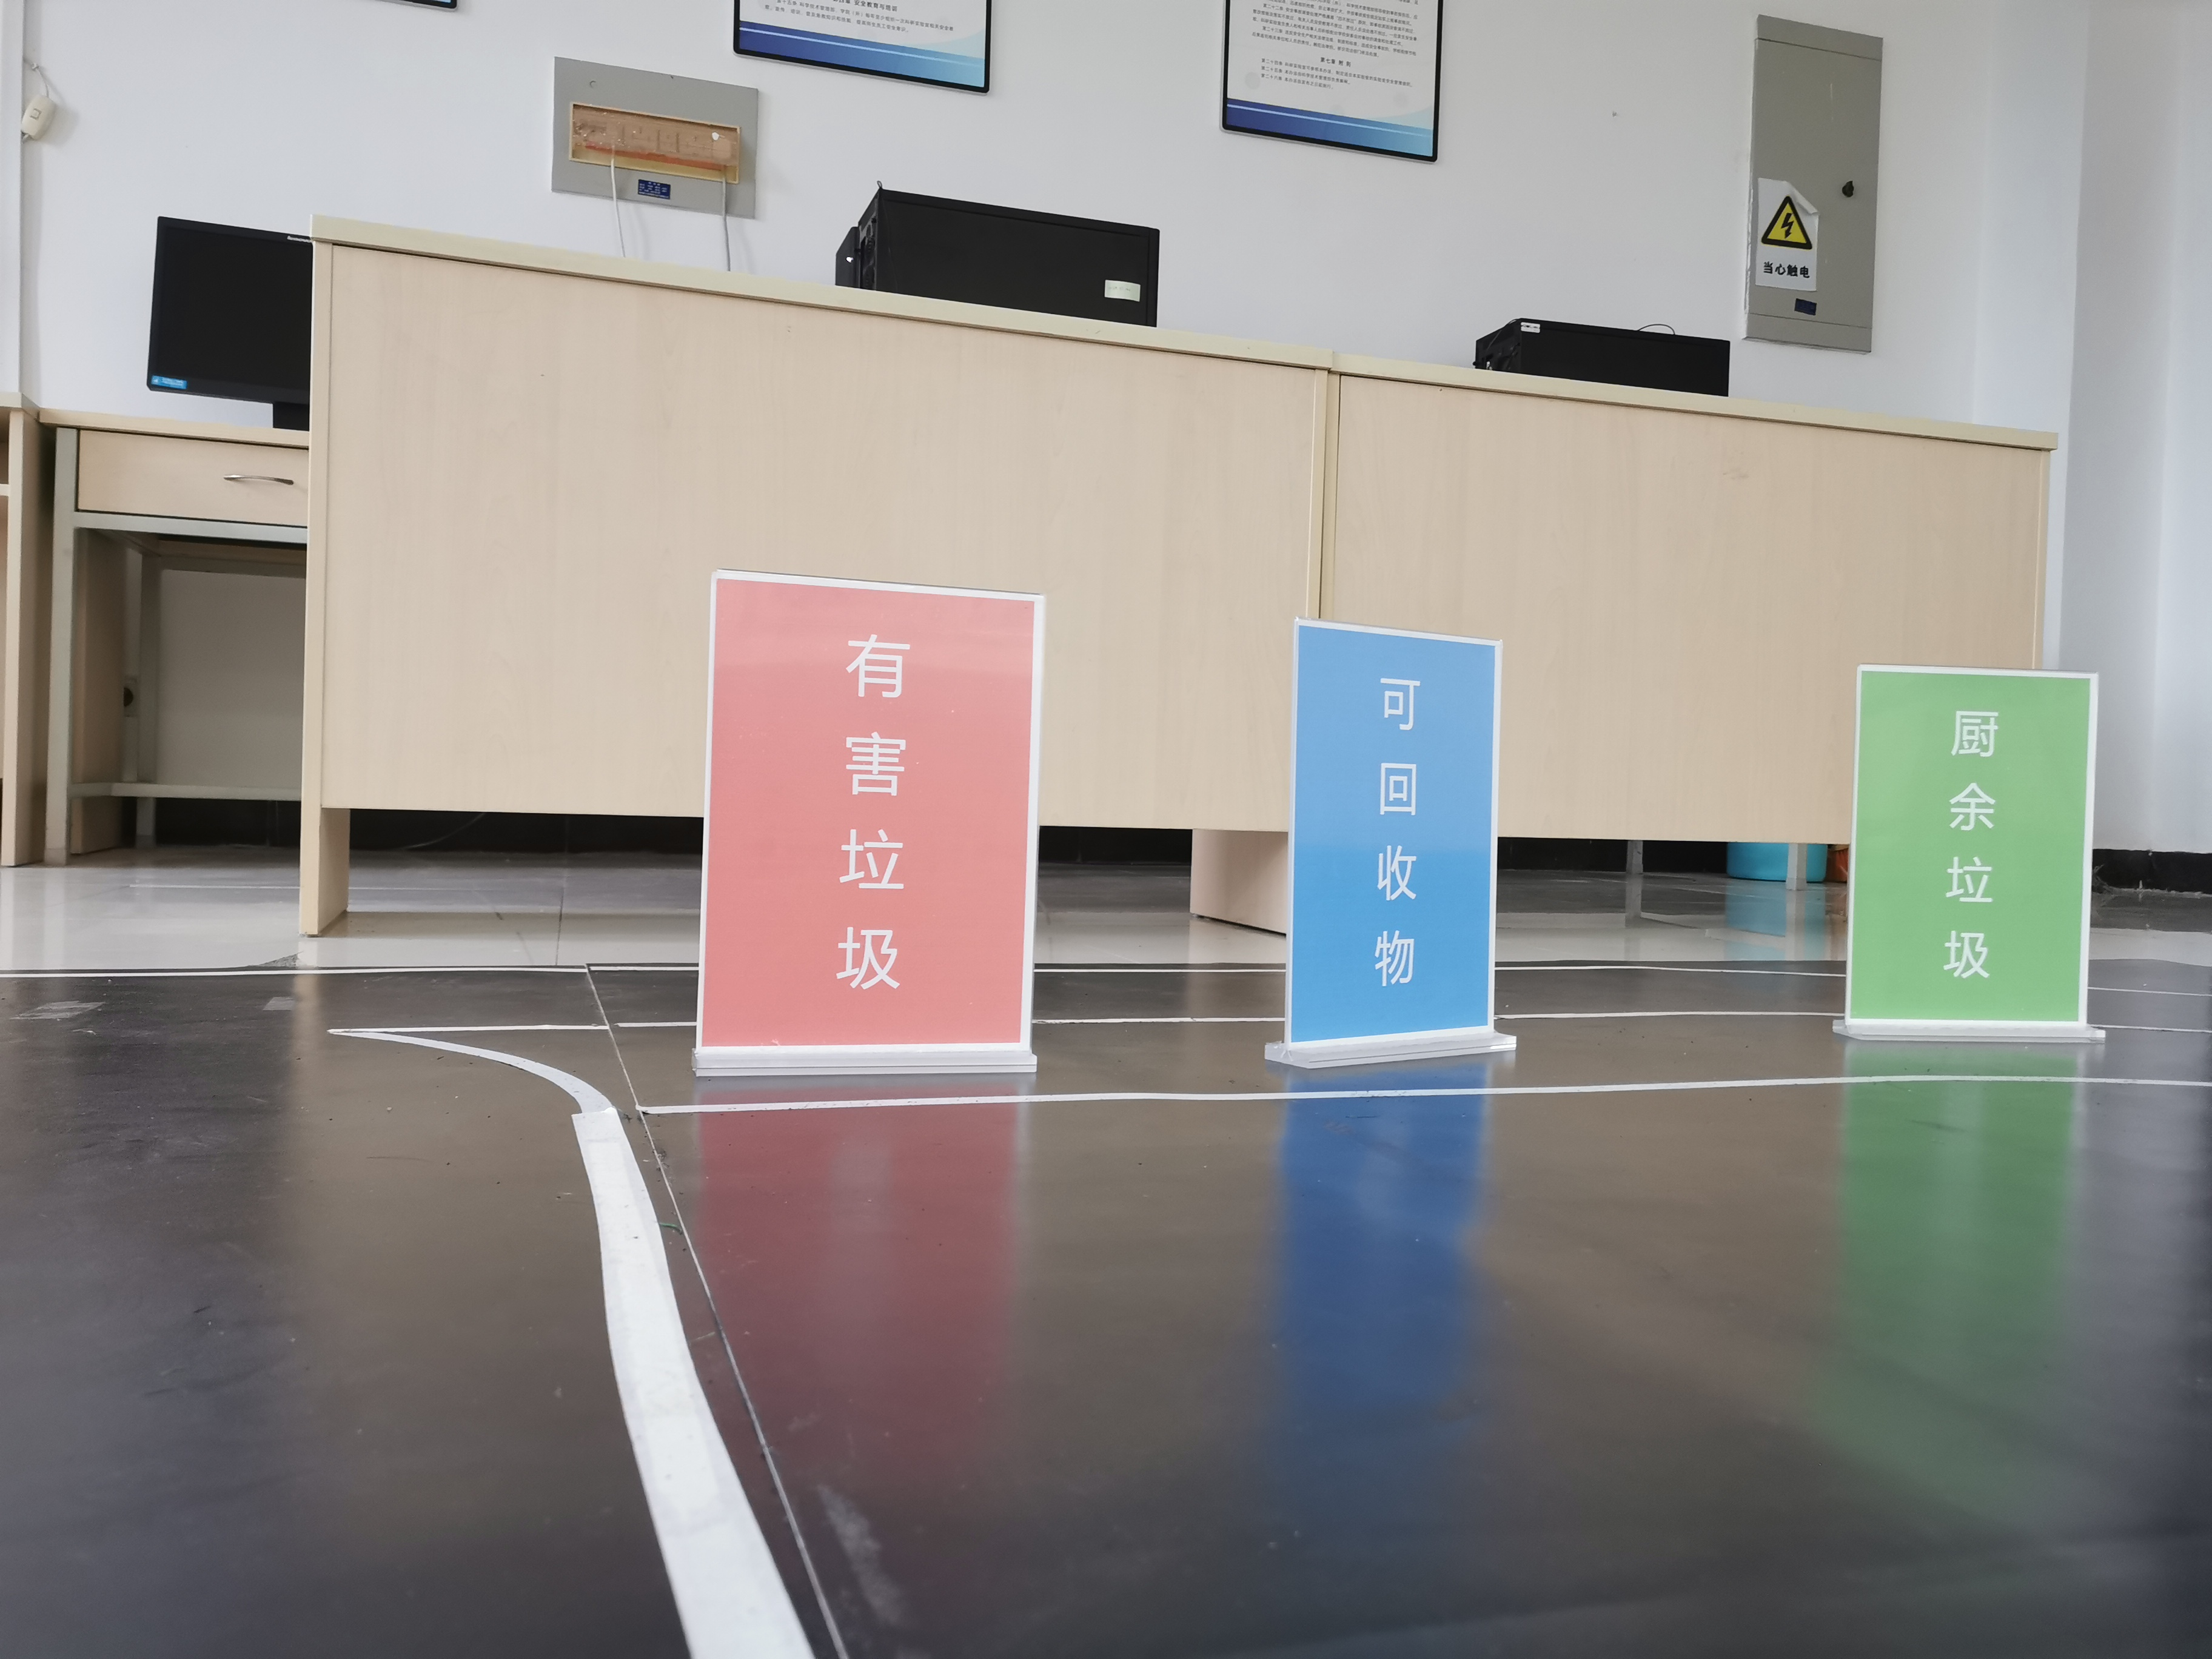blue: (1303, 648, 1486, 1021)
green: (1865, 681, 2074, 1016)
red: (725, 591, 1019, 1042)
